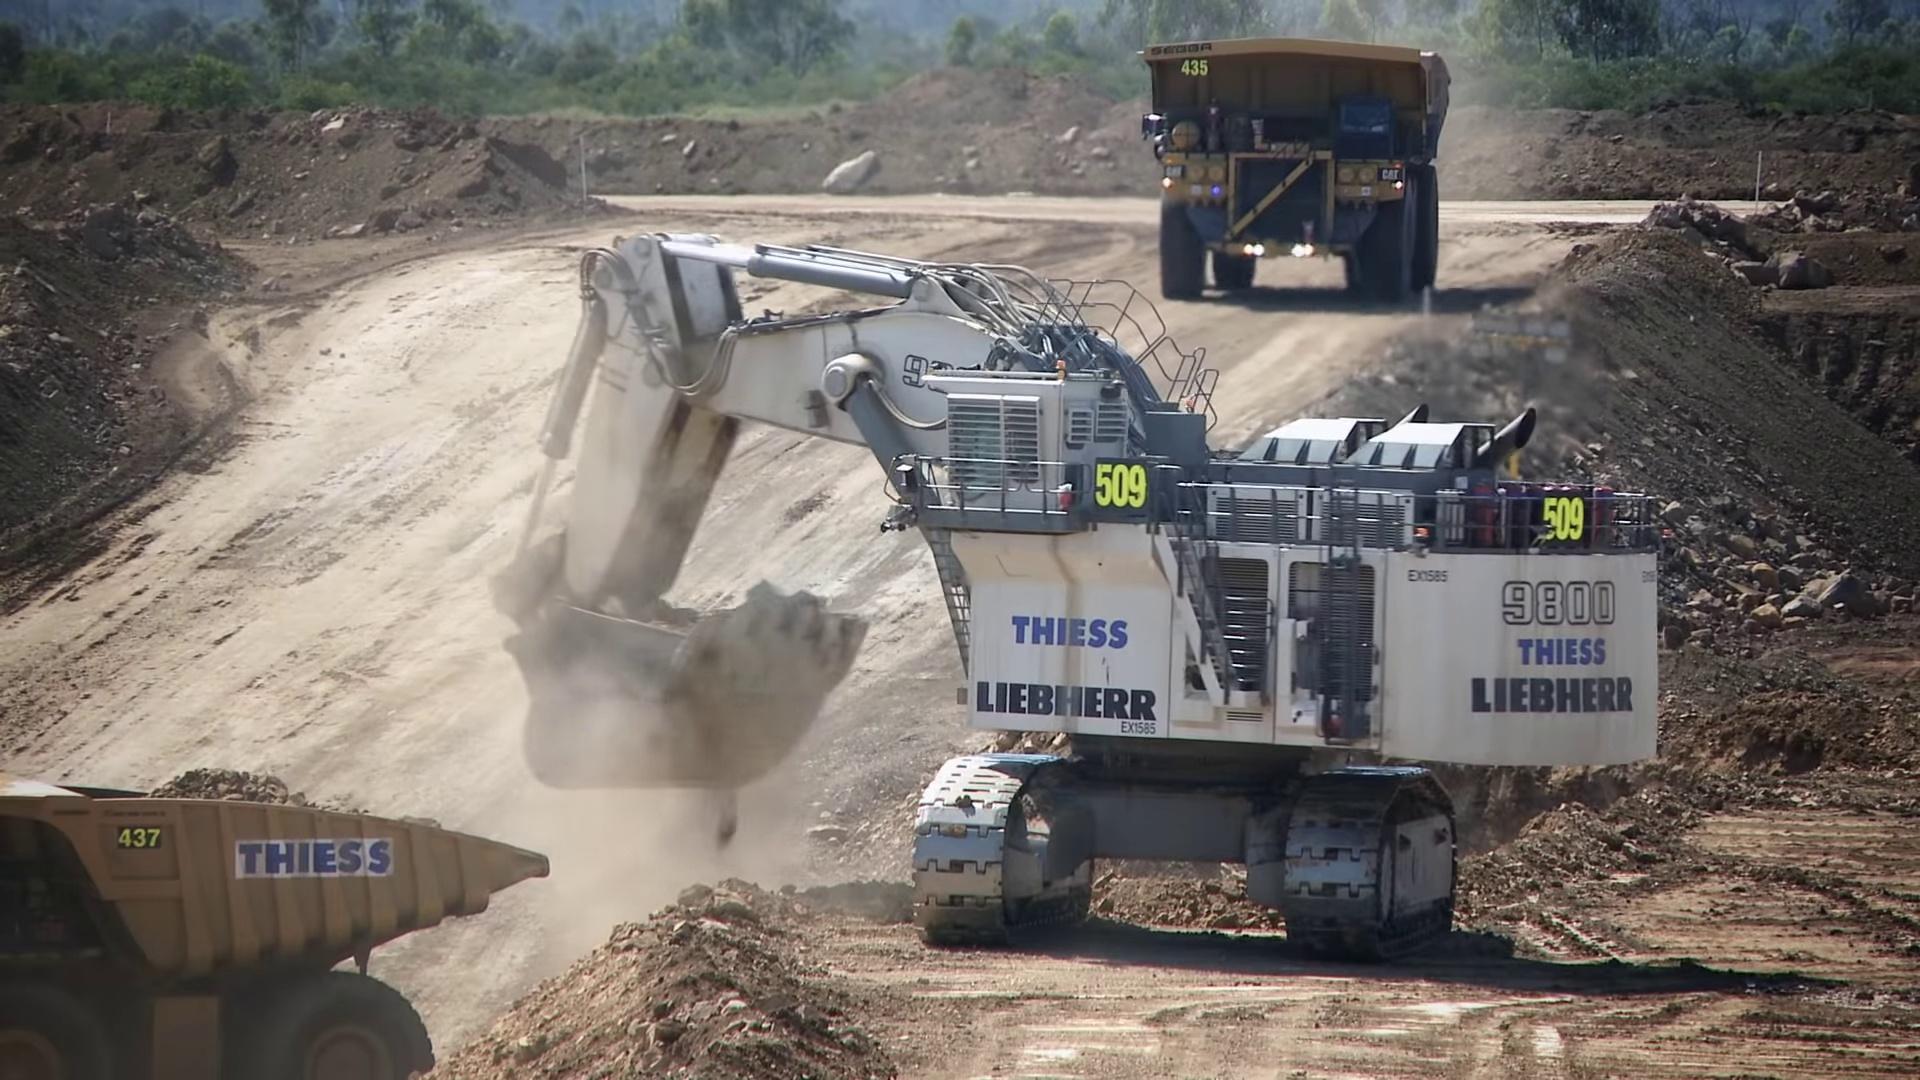dumper: (11, 769, 555, 1060), (1137, 37, 1453, 310)
excavator: (492, 235, 1665, 940)
